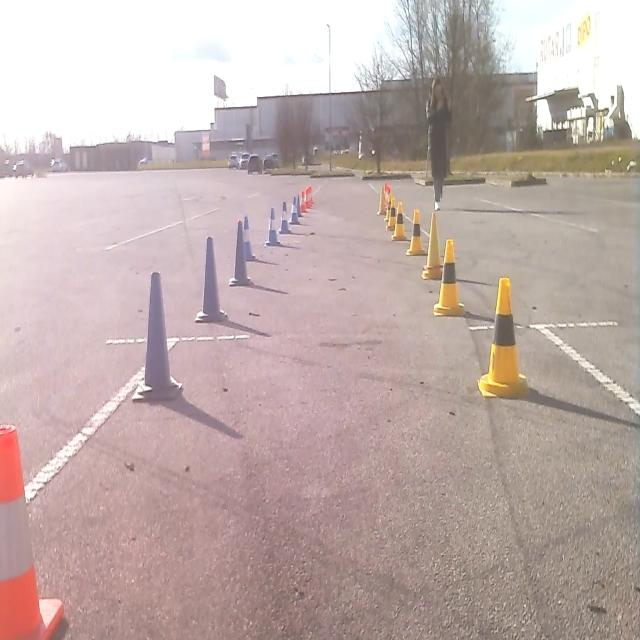blue_cone: (132, 268, 184, 403), (194, 233, 228, 323), (229, 222, 252, 286), (241, 217, 256, 262), (265, 209, 281, 247), (278, 202, 290, 234), (291, 195, 300, 226)
orange_cone: (0, 421, 64, 637), (382, 183, 392, 210), (305, 187, 314, 210), (300, 192, 307, 213)
yellow_cone: (477, 274, 528, 400), (432, 236, 465, 316), (421, 210, 444, 279), (406, 206, 426, 256), (391, 200, 407, 241), (386, 194, 397, 229), (377, 188, 387, 216)
